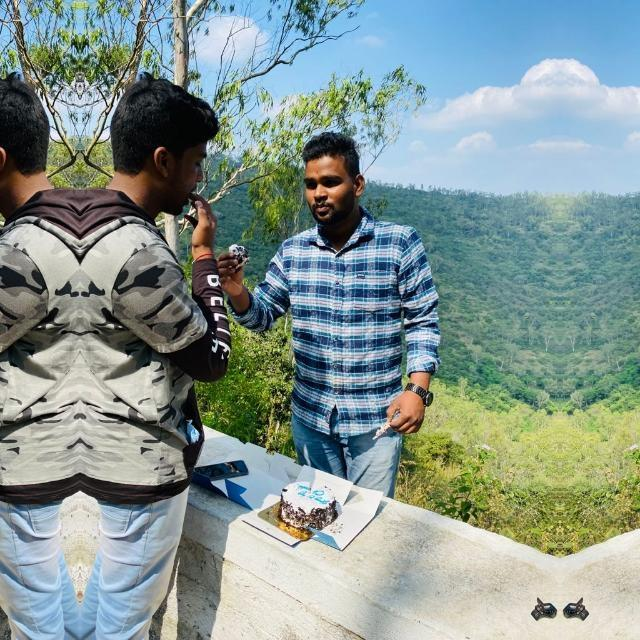person: (286, 148, 388, 492)
